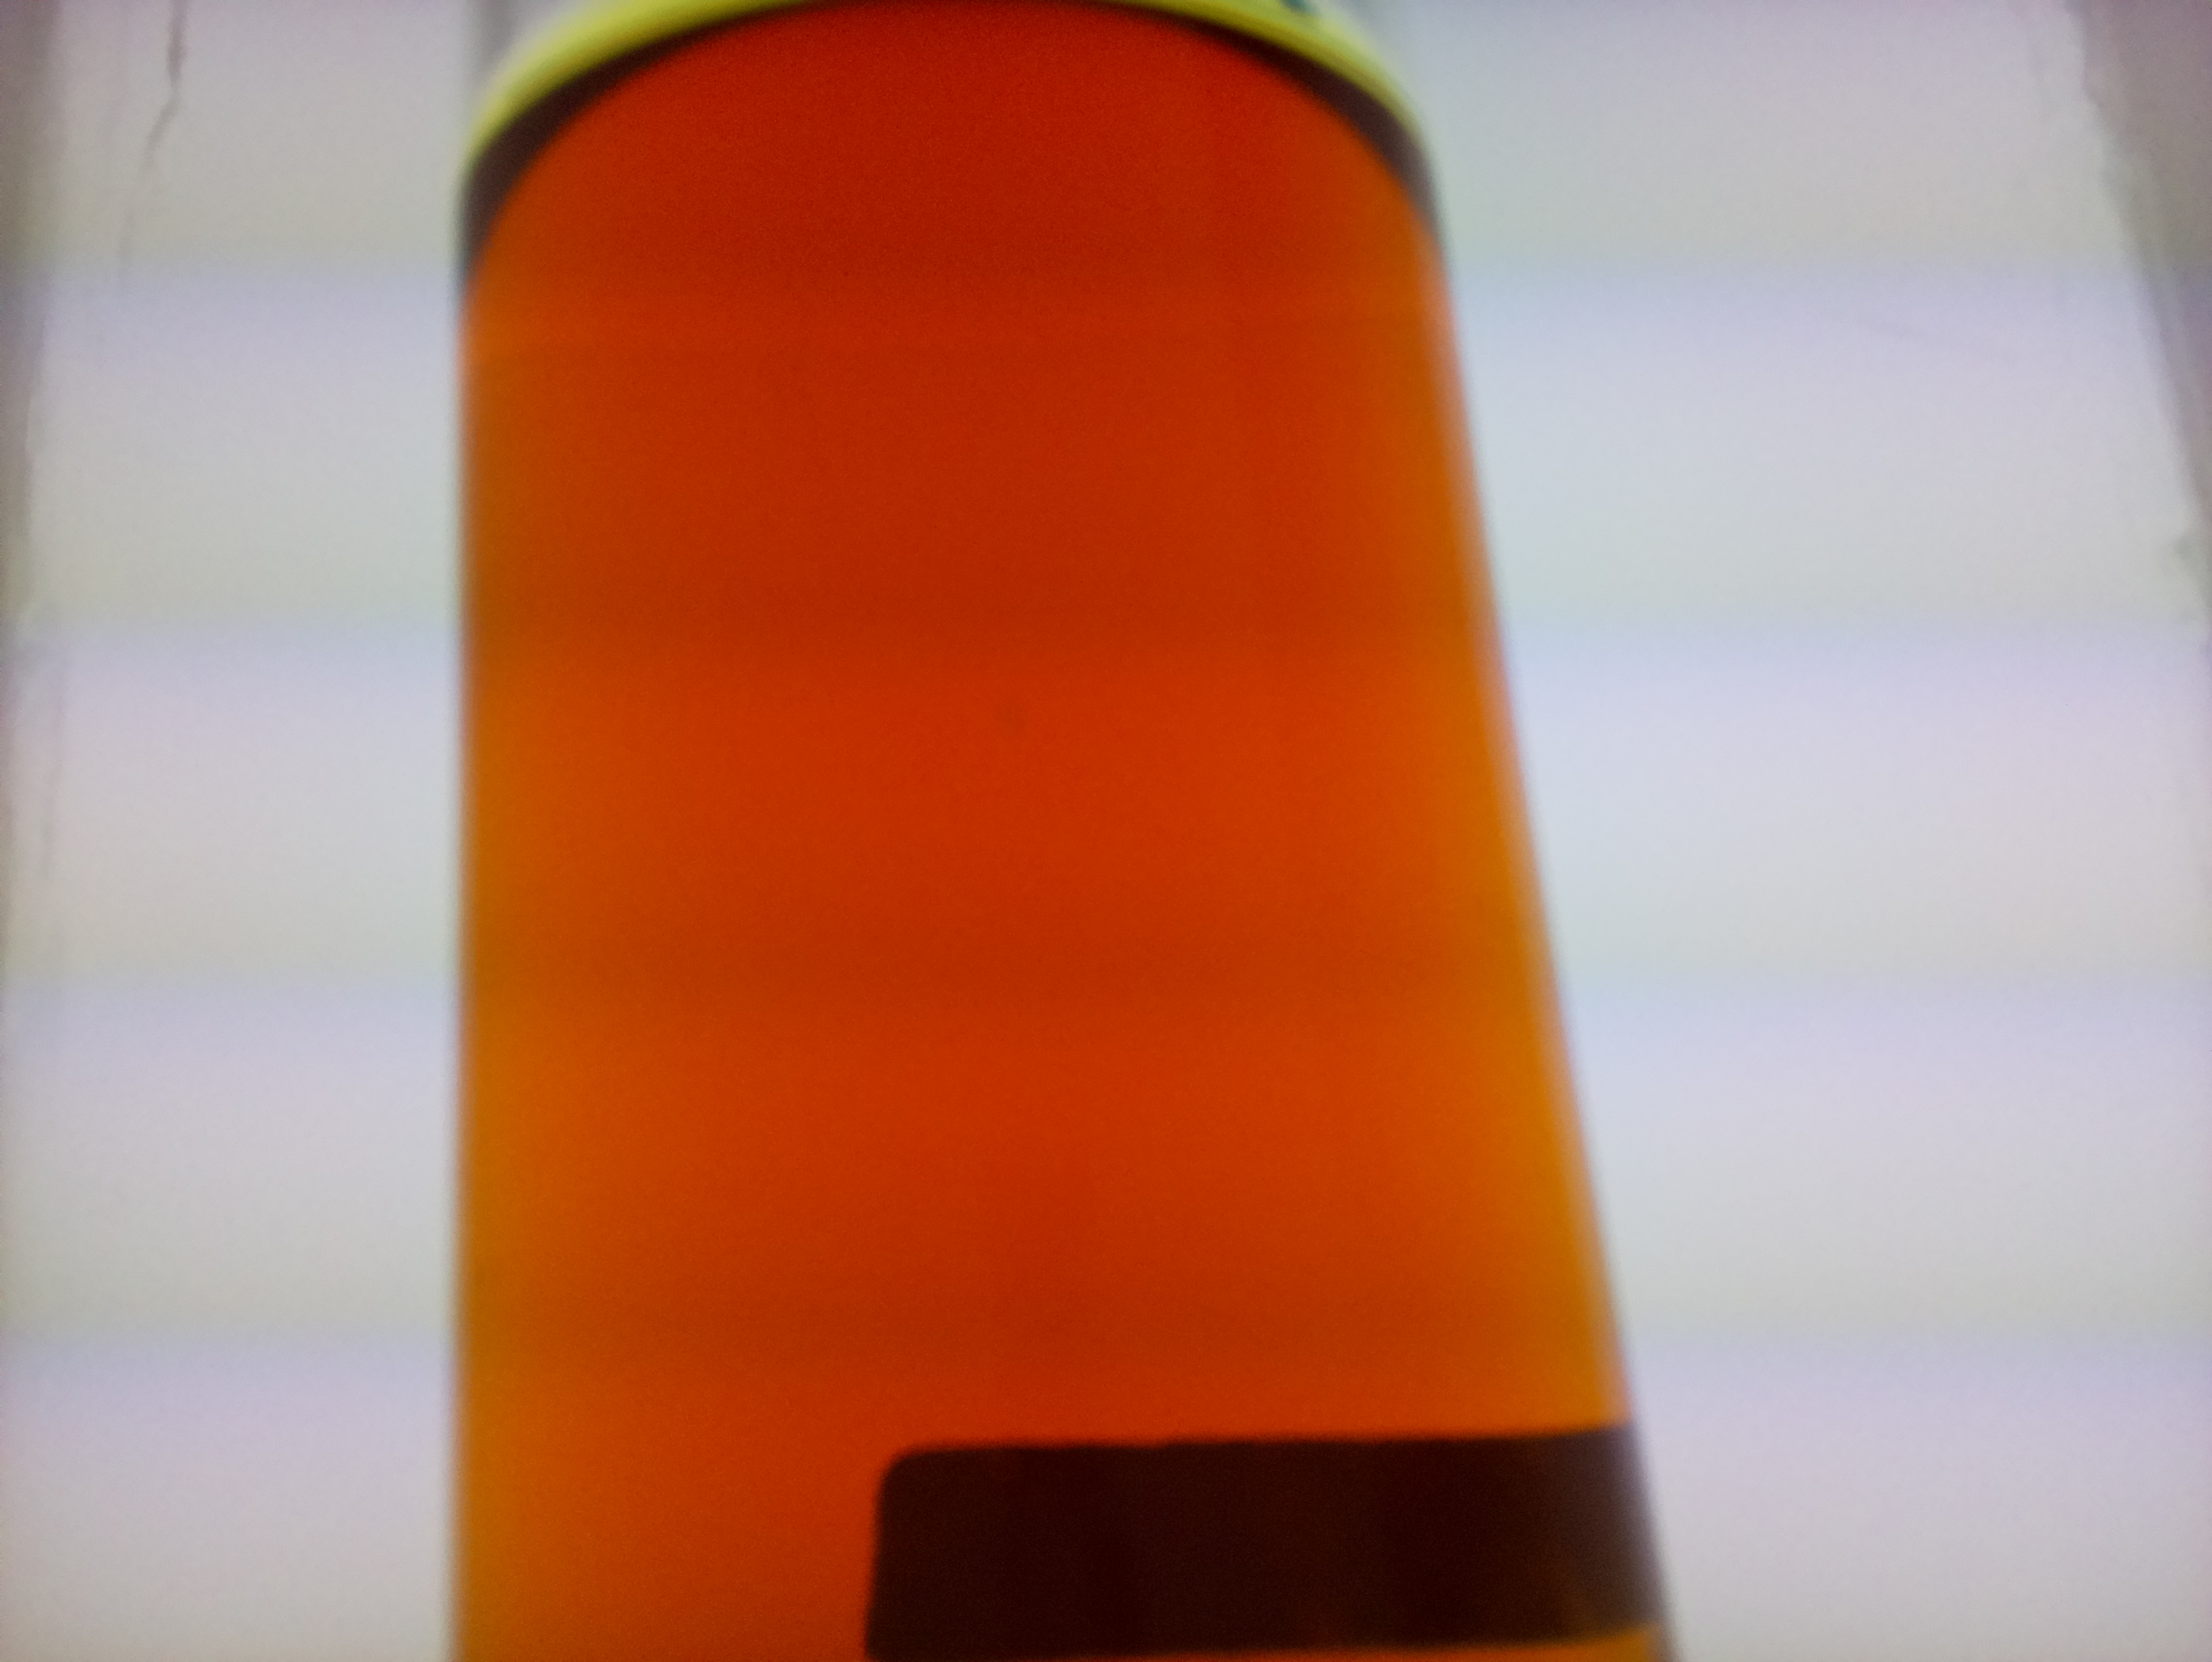colored_area: (463, 14, 1631, 1646)
